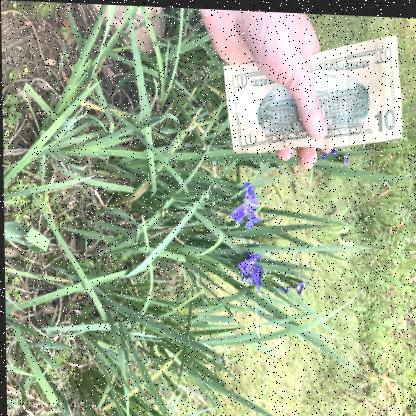ten-back: (222, 30, 405, 161)
